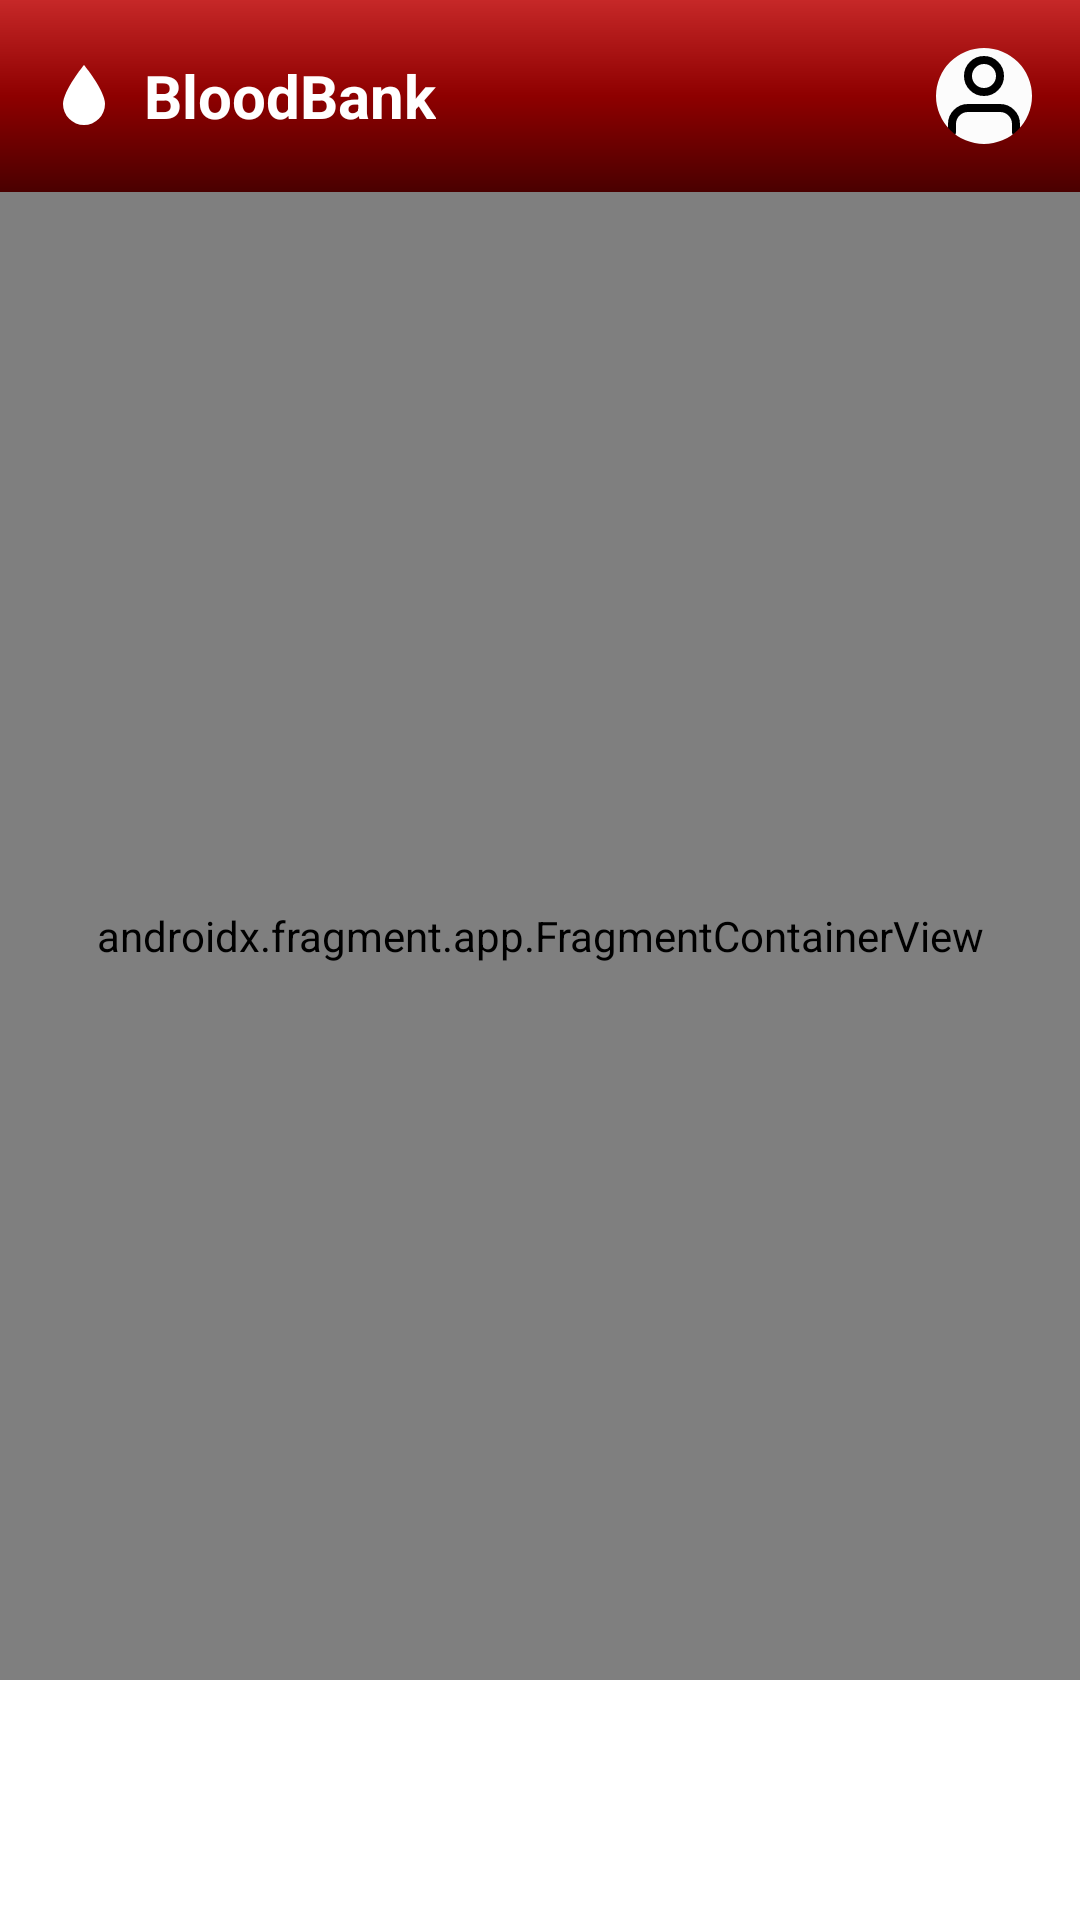

Icon click points for this 1080×1920 phone screenshot, format (x=x, y=y):
blood drop: (x=84, y=95)
profile: (x=984, y=96)
